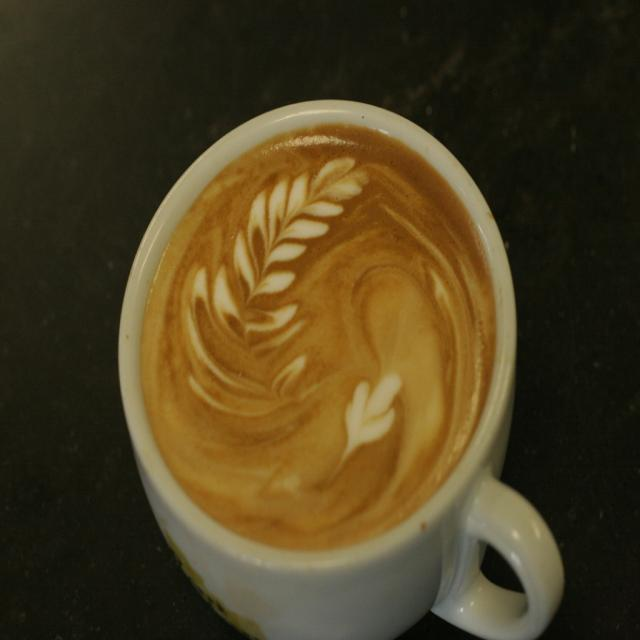Coffee: (137, 122, 497, 545)
